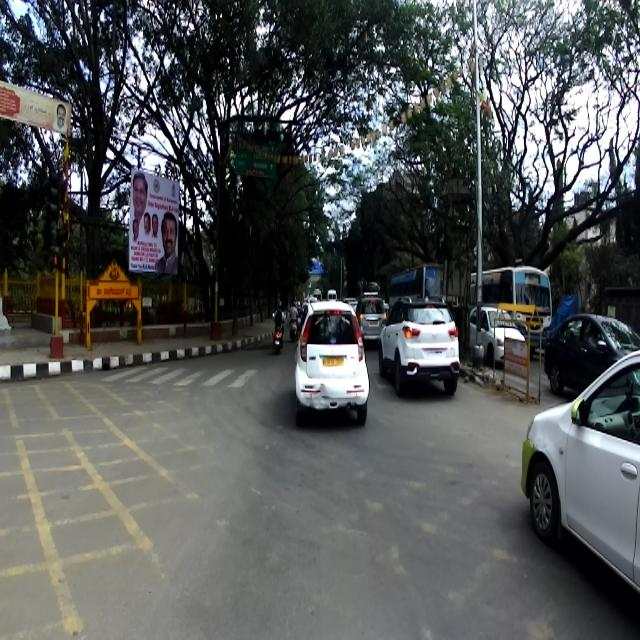Car_Hyundai: (378, 294, 460, 396)
Car_Maruti-Suzuki: (292, 299, 370, 426), (542, 314, 640, 393)
Car_TATA: (519, 345, 639, 611), (466, 304, 525, 367)
